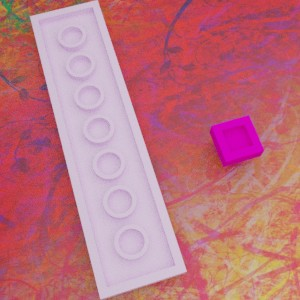lego: (29, 0, 186, 299), (209, 115, 264, 167)
